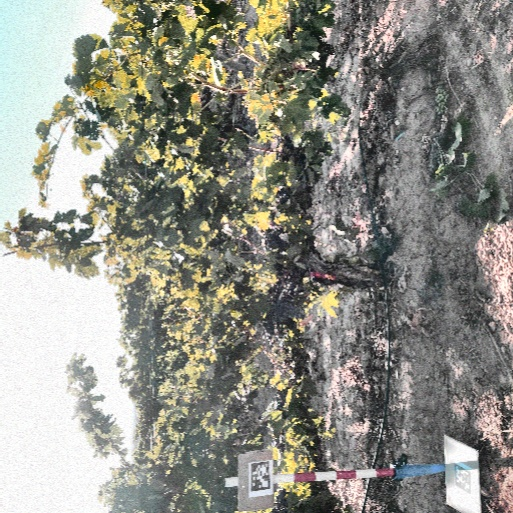QR: (250, 463, 270, 490)
